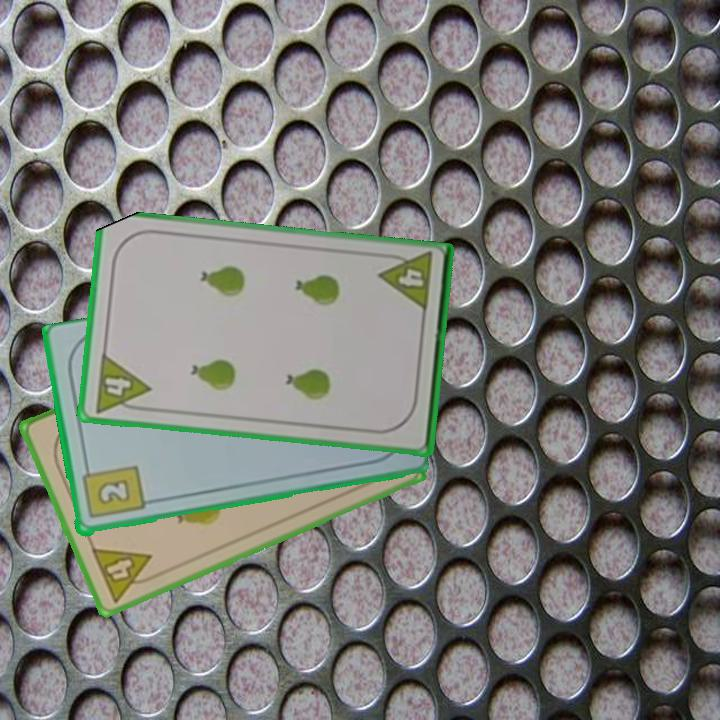2b: (79, 461, 147, 522)
4p: (87, 544, 162, 606), (90, 350, 153, 416), (376, 250, 436, 316)
